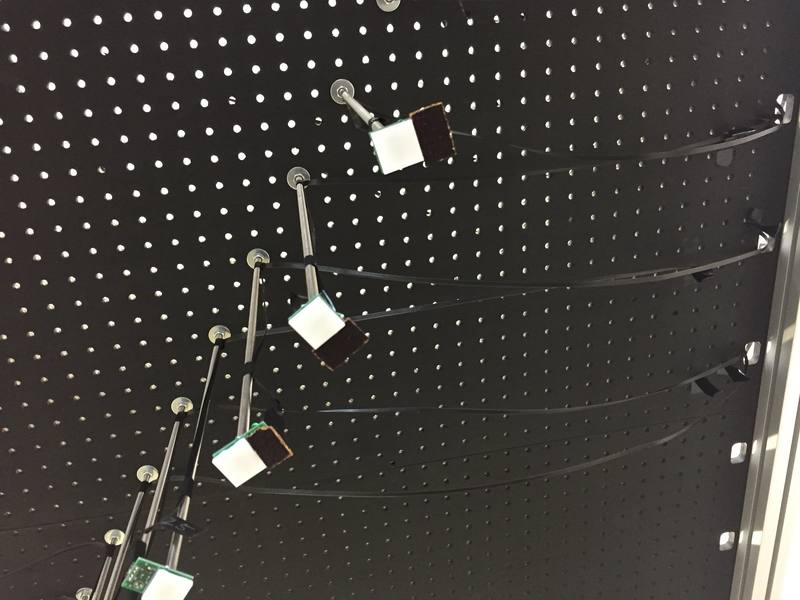target: (289, 294, 346, 350), (370, 118, 427, 174), (213, 437, 267, 491)
